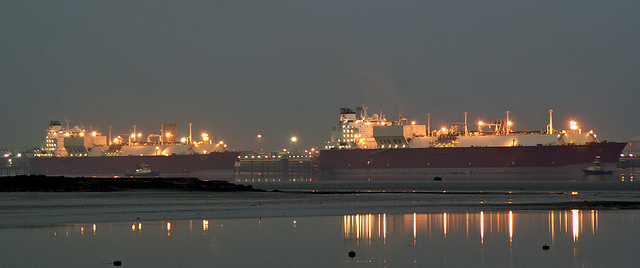LNG_ship: (312, 101, 630, 175), (24, 121, 241, 173)
tug_boat: (124, 154, 165, 178)
